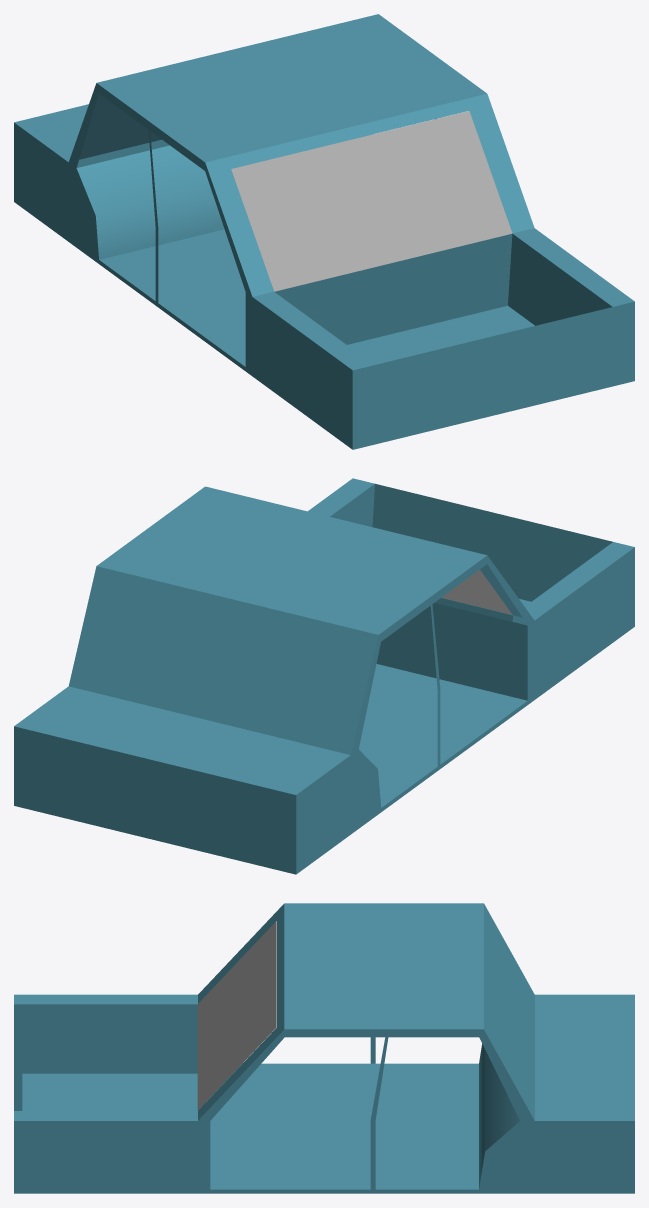
Rendered from car.fbx.
3 renders of one model, top to bottom at view 1: azimuth 30°, elevation 25°; view 2: azimuth 150°, elevation 25°; view 3: azimuth 270°, elevation 25°, orthographic. The views are drawn at different scales.
Visible parts, largest first — view 1: polySurface1, polySurface2; view 2: polySurface1, polySurface2; view 3: polySurface1, polySurface2.
Part boxes in pixels (x1,y1,x2,y2): polySurface1: [14, 14, 634, 449]; polySurface2: [231, 111, 512, 291]; polySurface1: [14, 478, 634, 874]; polySurface2: [442, 569, 512, 614]; polySurface1: [14, 903, 634, 1193]; polySurface2: [197, 921, 276, 1110].
Size of the model in its own units: 6.59 by 4 by 13.71.
